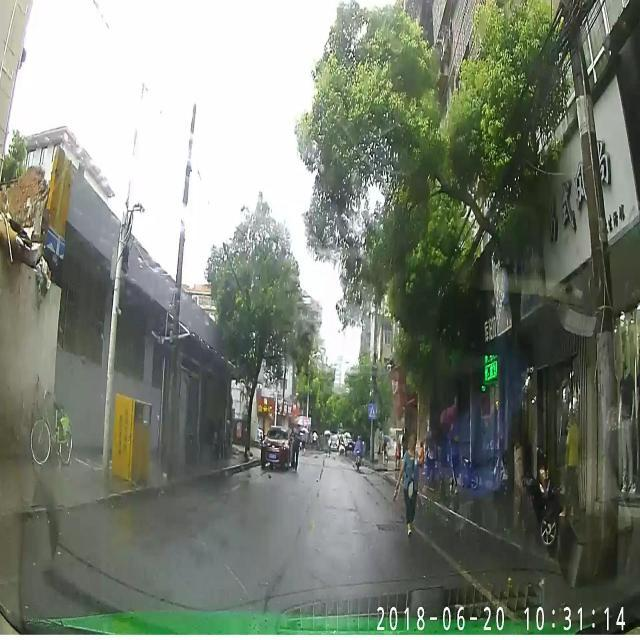car: (260, 426, 288, 469)
